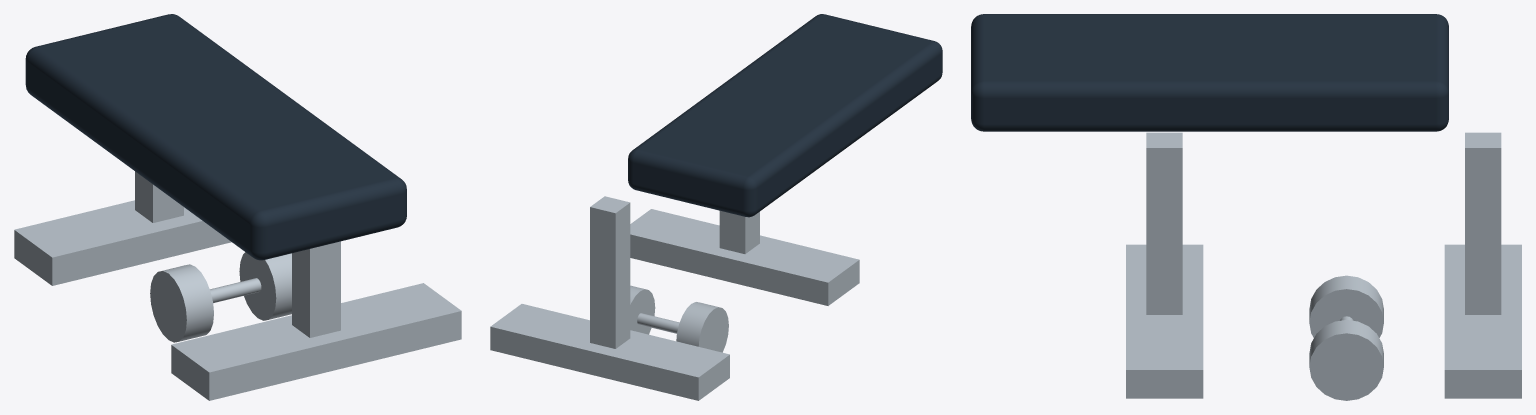
Rendered from dumbbell_row_bench.glb.
The picture shows the model from 3 angles, left to right: view 1: azimuth 30°, elevation 25°; view 2: azimuth 150°, elevation 25°; view 3: azimuth 270°, elevation 25°; orthographic projection. The views are drawn at different scales.
Parts seen in each view (by area): view 1: seat, benchFoot (×2), Ldumbbell, benchLeg (×2); view 2: seat, benchFoot (×2), benchLeg (×2), Ldumbbell; view 3: seat, benchFoot (×2), benchLeg (×2), Ldumbbell.
Boxes of the visible parts, bbox=[...] form: seat: bbox=[25, 14, 406, 260]; benchFoot (×2): bbox=[14, 200, 461, 400]; Ldumbbell: bbox=[150, 252, 291, 342]; benchLeg (×2): bbox=[135, 171, 340, 337]; seat: bbox=[628, 14, 942, 217]; benchFoot (×2): bbox=[490, 209, 859, 400]; benchLeg (×2): bbox=[590, 196, 759, 348]; Ldumbbell: bbox=[630, 285, 728, 352]; seat: bbox=[971, 14, 1448, 131]; benchFoot (×2): bbox=[1126, 244, 1521, 398]; benchLeg (×2): bbox=[1146, 132, 1501, 314]; Ldumbbell: bbox=[1309, 275, 1383, 400].
Bounding box in the file's own units: 0.725 × 0.692 × 1.21.
